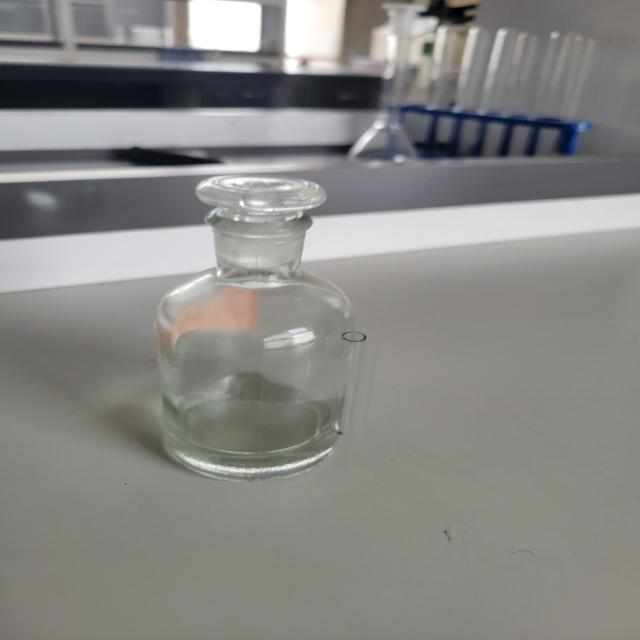Reagent_Bottle: (87, 140, 416, 497)
